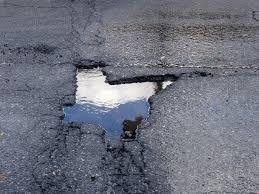alligator-crack: (26, 147, 156, 190), (48, 3, 107, 43)
pothole: (61, 57, 174, 144)
